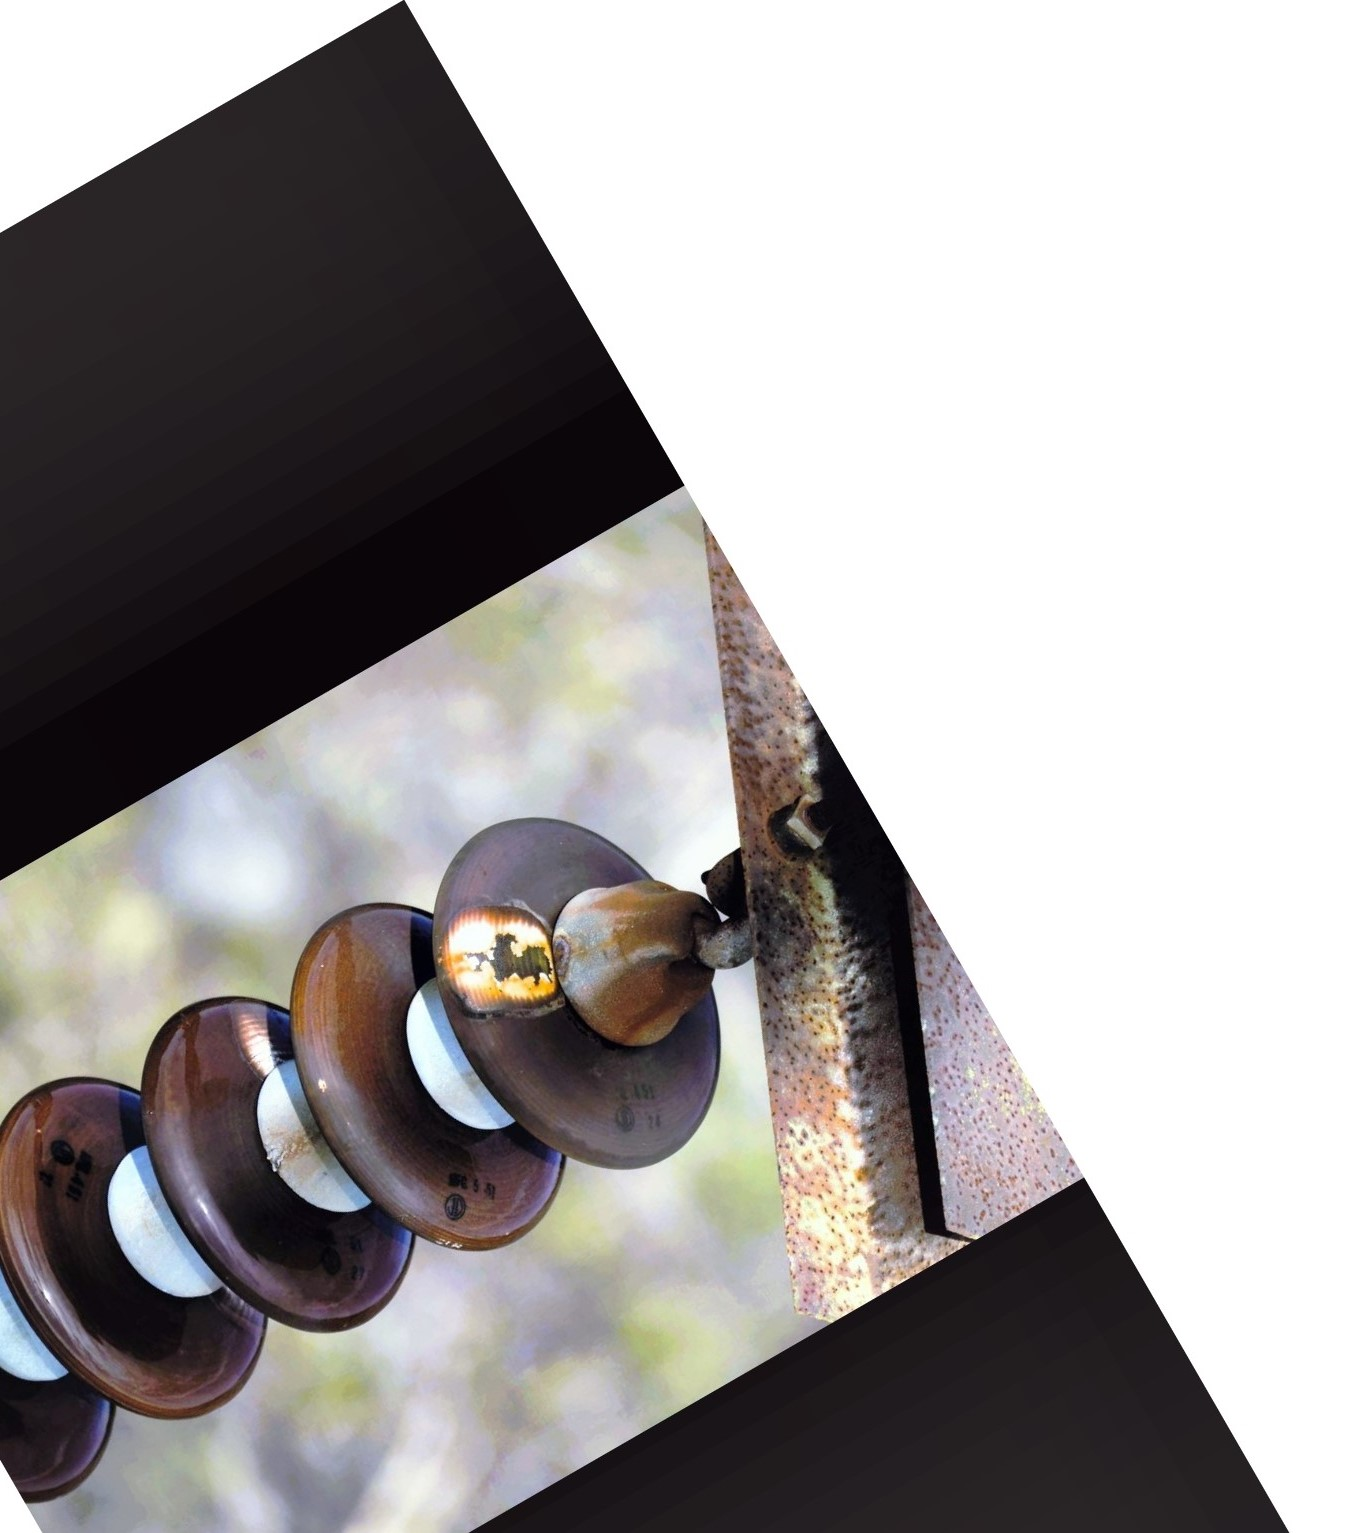Insulator flashover: (427, 799, 725, 1181)
